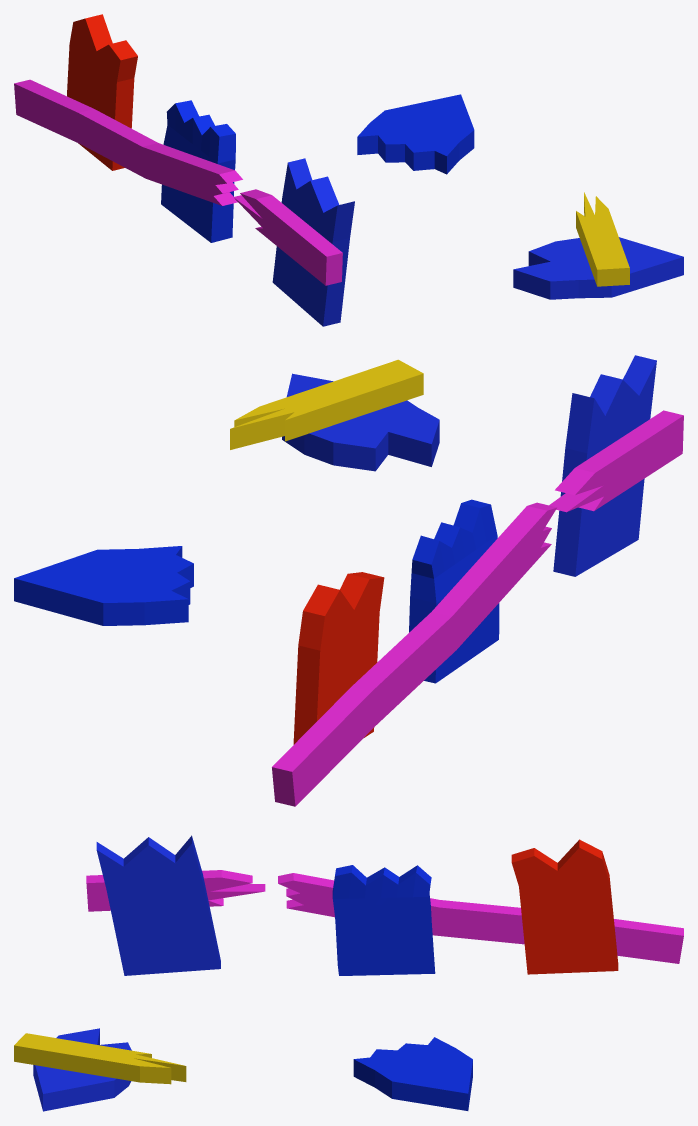
Rendered from BrokenFence.fbx.
The picture shows the model from 3 angles, top to bottom: view 1: azimuth 30°, elevation 25°; view 2: azimuth 150°, elevation 25°; view 3: azimuth 270°, elevation 25°; orthographic projection. The views are drawn at different scales.
Visible parts, largest first — view 1: Cube.003, Cube.001, Cube, Cube.004, Cube.005; view 2: Cube.003, Cube, Cube.001, Cube.004, Cube.005; view 3: Cube, Cube.001, Cube.004, Cube.003, Cube.005.
Part boxes in pixels (x1=…): Cube.003: x1=14, y1=79, x2=342, y2=285; Cube.001: x1=272, y1=158, x2=683, y2=326; Cube: x1=161, y1=94, x2=474, y2=242; Cube.004: x1=67, y1=14, x2=137, y2=170; Cube.005: x1=576, y1=192, x2=629, y2=286; Cube.003: x1=272, y1=410, x2=683, y2=806; Cube: x1=14, y1=499, x2=499, y2=683; Cube.001: x1=282, y1=355, x2=656, y2=576; Cube.004: x1=293, y1=572, x2=384, y2=744; Cube.005: x1=230, y1=359, x2=423, y2=449; Cube: x1=332, y1=865, x2=472, y2=1110; Cube.001: x1=33, y1=835, x2=220, y2=1111; Cube.004: x1=511, y1=839, x2=618, y2=974; Cube.003: x1=86, y1=870, x2=683, y2=963; Cube.005: x1=14, y1=1033, x2=186, y2=1084.
Bounding box in the file's own units: 175 × 69.16 × 317.
